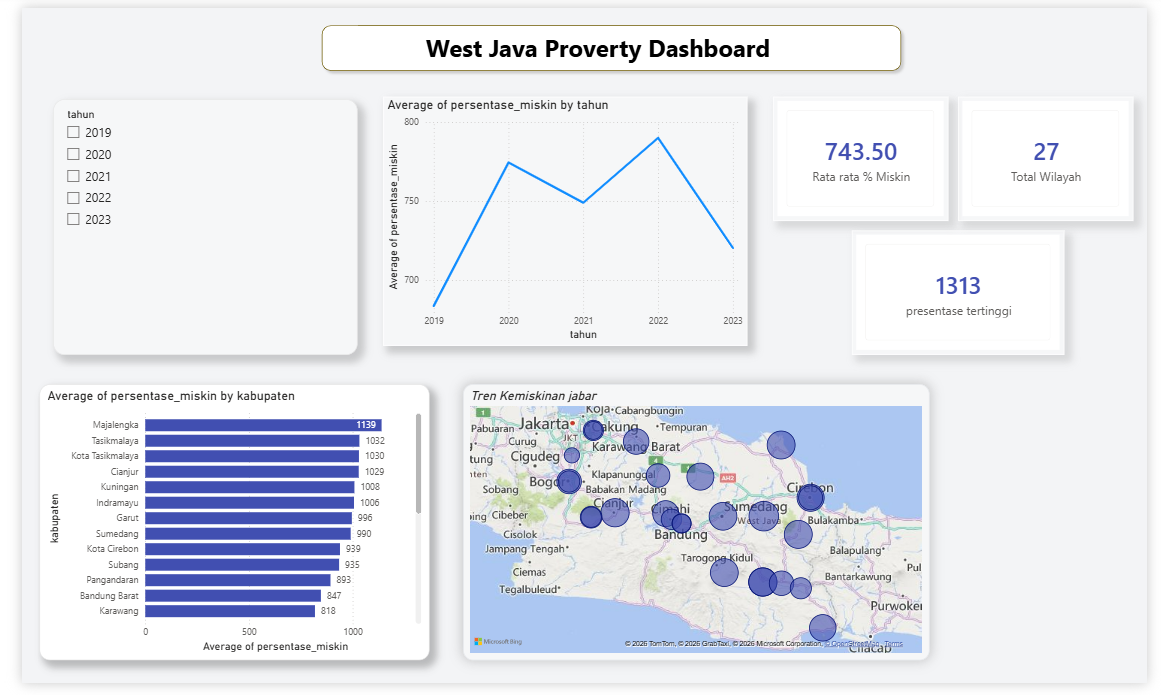

This screenshot's page, from the dashboard's own definition file:
{"tool":"powerbi","page":{"name":"Page 1","canvas":[1500,900],"ordinal":0},"visuals":[{"type":"lineChart","fields":{"Category":["kemiskinan_clean.tahun"],"Y":["Avg(kemiskinan_clean.persentase_miskin)"]},"box":[481.1,117.6,485.6,331.8],"z":0},{"type":"clusteredBarChart","fields":{"Category":["kemiskinan_clean.kabupaten"],"Y":["Avg(kemiskinan_clean.persentase_miskin)"]},"box":[22.6,502.2,520.3,368],"z":1000},{"type":"map","title":"Tren Kemiskinan jabar","fields":{"Category":["kemiskinan_clean.kabupaten"],"Size":["Avg(kemiskinan_clean.persentase_miskin)"]},"box":[588.1,502.2,621.3,368],"z":2000},{"type":"slicer","fields":{"Values":["kemiskinan_clean.tahun"]},"box":[42.2,122.2,405.7,340.8],"z":3000},{"type":"shape","box":[392.1,15.1,788.7,76.9],"z":4000},{"type":"textbox","box":[509.7,27.1,515.8,76.9],"z":5001},{"type":"cardVisual","fields":{"Data":["Avg(kemiskinan_clean.persentase_miskin)"]},"box":[1001.3,117.6,233.7,165.9],"z":5002},{"type":"cardVisual","fields":{"Data":["Count(kemiskinan_clean.kabupaten)"]},"box":[1248.7,117.6,233.7,165.9],"z":5003},{"type":"cardVisual","fields":{"Data":["Max(kemiskinan_clean.persentase_miskin)"]},"box":[1106.9,297.1,283.5,165.9],"z":5004}]}

Visuals, with their boxes in screenshot pixels (x1, y1, x2, y2), scaled from the page's 1500x900 canvas onto the 1161x695 screenshot:
lineChart - kemiskinan_clean.tahun x Avg(kemiskinan_clean.persentase_miskin): [372, 91, 748, 347]
clusteredBarChart - kemiskinan_clean.kabupaten x Avg(kemiskinan_clean.persentase_miskin): [17, 388, 420, 672]
"Tren Kemiskinan jabar" map: [455, 388, 936, 672]
slicer - kemiskinan_clean.tahun: [33, 94, 347, 358]
shape: [303, 12, 914, 71]
textbox: [395, 21, 794, 80]
cardVisual - Avg(kemiskinan_clean.persentase_miskin): [775, 91, 956, 219]
cardVisual - Count(kemiskinan_clean.kabupaten): [966, 91, 1147, 219]
cardVisual - Max(kemiskinan_clean.persentase_miskin): [857, 229, 1076, 358]
